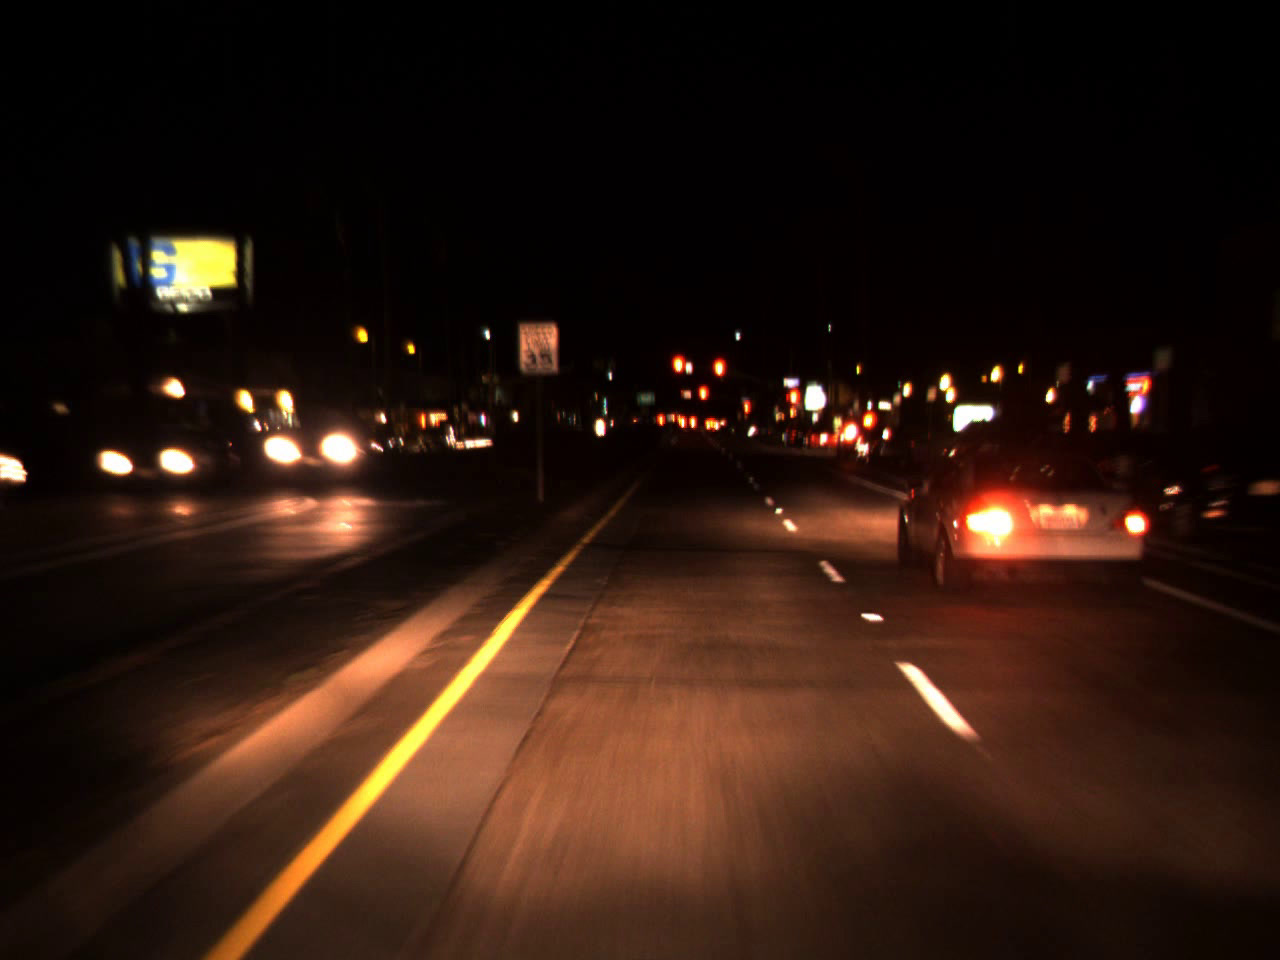stop: (782, 382, 803, 441), (669, 352, 688, 395), (711, 356, 726, 399), (696, 382, 709, 419), (742, 397, 751, 432)
